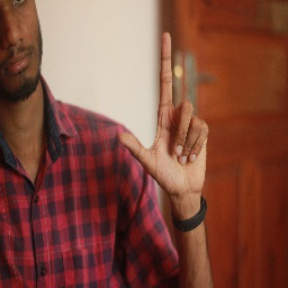L: (119, 31, 210, 193)
